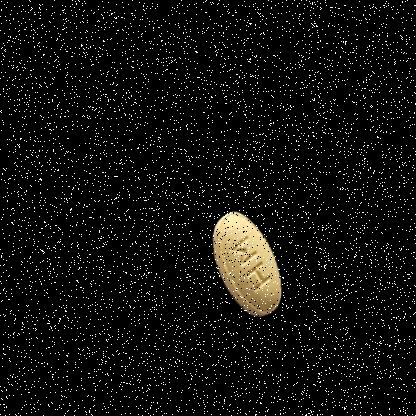tovast10: (187, 193, 312, 348)
